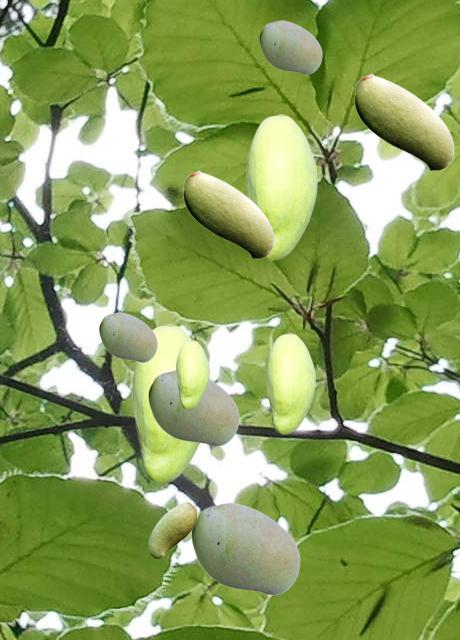green_mango: (132, 324, 200, 482), (246, 114, 316, 259), (191, 502, 299, 594), (354, 73, 453, 170), (183, 170, 273, 258), (148, 370, 238, 445), (266, 333, 314, 433), (259, 20, 321, 73), (99, 312, 156, 361), (148, 501, 196, 557), (176, 340, 208, 408)
